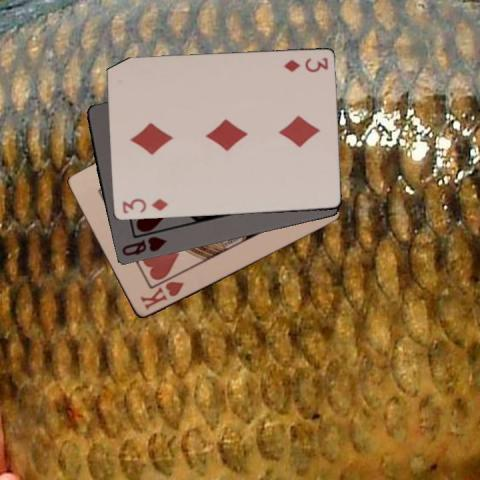3d: (119, 196, 169, 215), (281, 55, 329, 73)
Kh: (137, 279, 185, 312)
Qh: (119, 233, 168, 258)
